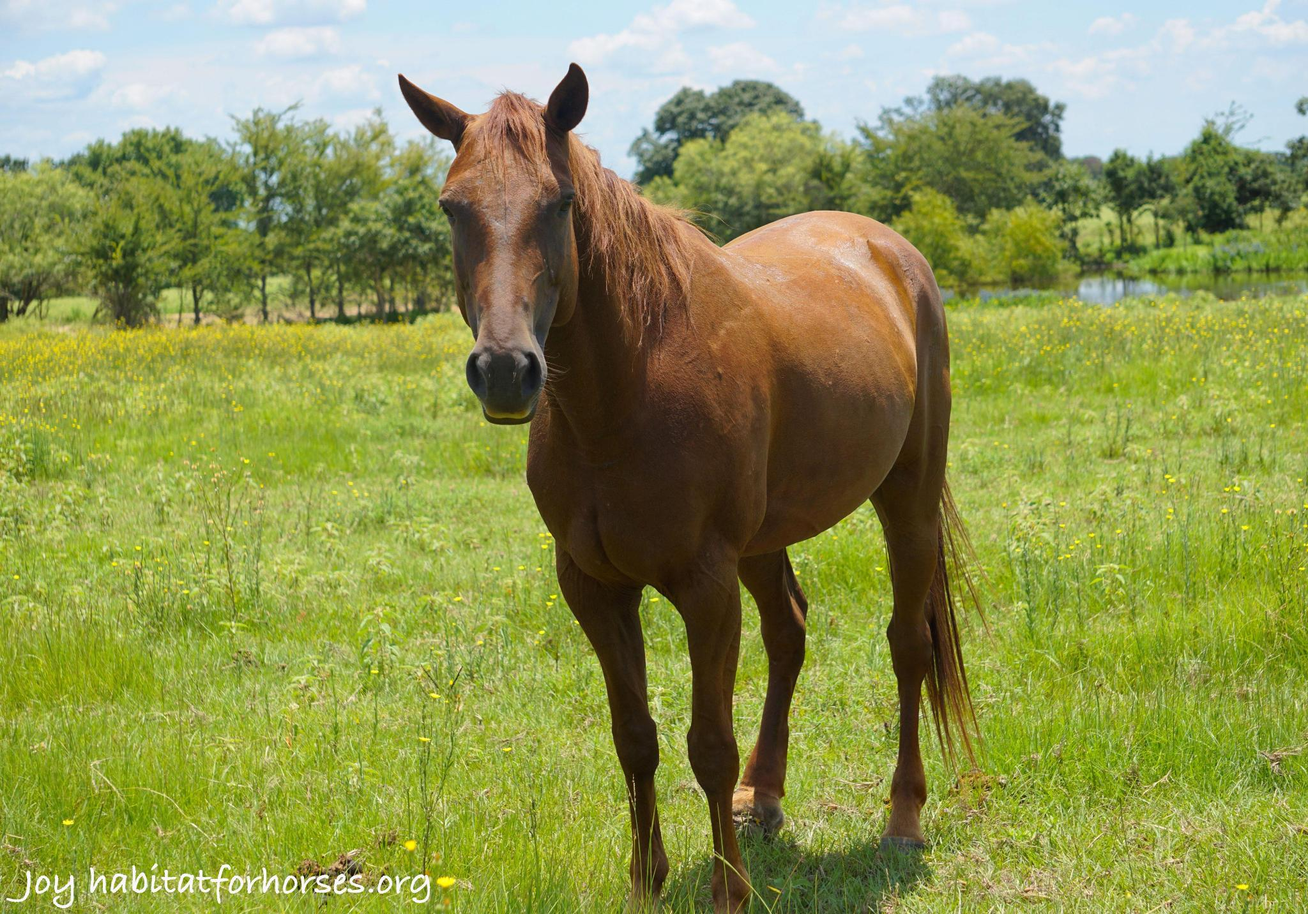horse: (387, 56, 1000, 914)
